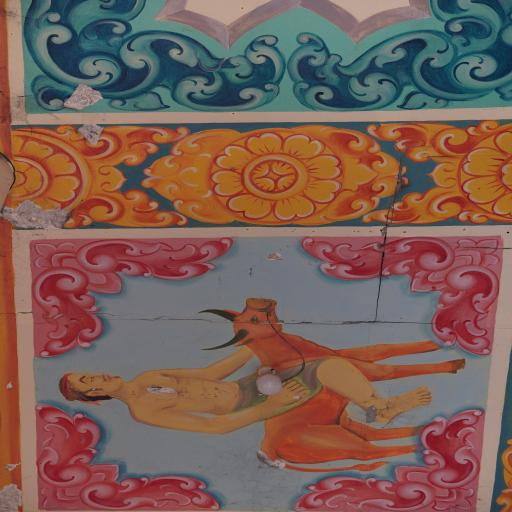hoa: (210, 130, 342, 224), (10, 128, 89, 227), (458, 128, 512, 222)
la: (18, 2, 291, 115), (297, 0, 512, 112), (32, 238, 237, 355), (303, 236, 503, 353), (296, 406, 484, 512), (36, 404, 217, 512), (143, 127, 237, 224), (325, 125, 412, 225), (60, 120, 192, 166), (359, 186, 488, 223), (76, 188, 188, 229), (367, 122, 475, 161)
than: (42, 347, 490, 430)
